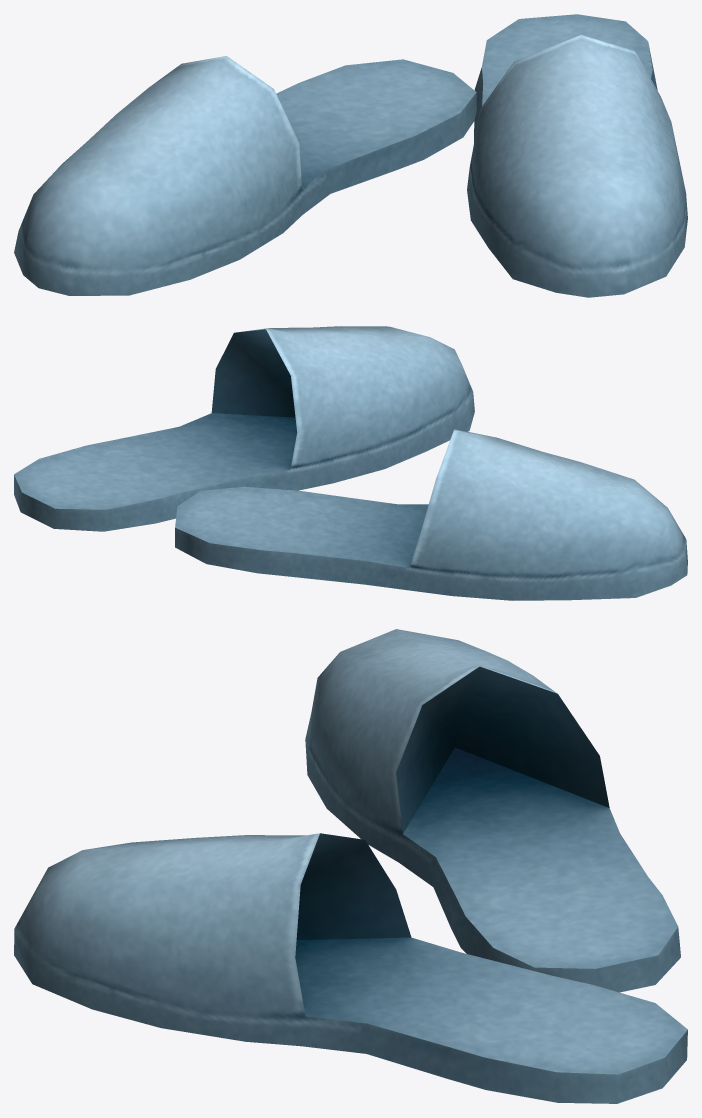
Rendered from ShenFuXiuXiShi_01_tuoxie_01.FBX.
3 renders of one model, top to bottom at view 1: azimuth 30°, elevation 25°; view 2: azimuth 150°, elevation 25°; view 3: azimuth 270°, elevation 25°, orthographic. The views are drawn at different scales.
Visible parts, largest first — view 1: ShenFuXiuXiShi_01_tuoxie_01; view 2: ShenFuXiuXiShi_01_tuoxie_01; view 3: ShenFuXiuXiShi_01_tuoxie_01.
Boxes of the visible parts, x1,y1,x2,y2 form: ShenFuXiuXiShi_01_tuoxie_01: (14, 14, 687, 297); ShenFuXiuXiShi_01_tuoxie_01: (14, 326, 687, 600); ShenFuXiuXiShi_01_tuoxie_01: (14, 629, 687, 1103).
Size of the model in its own units: 207 by 41.38 by 147.
